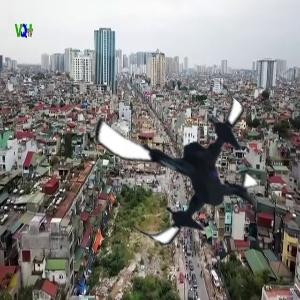drone: (90, 69, 272, 251)
